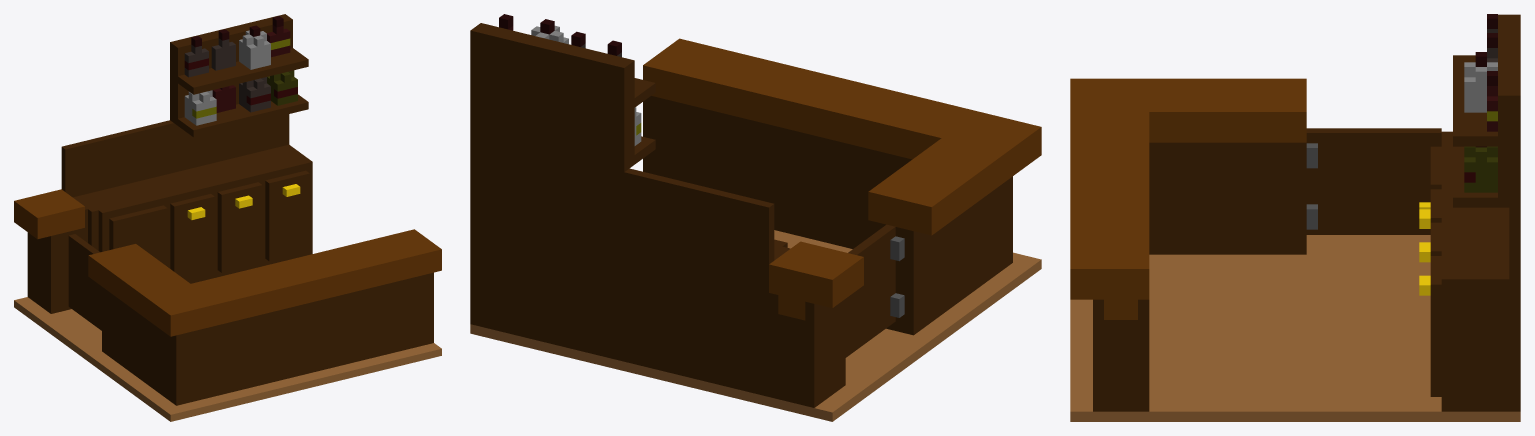
File: saloon-5.obj
The picture shows the model from 3 angles, left to right: view 1: azimuth 30°, elevation 25°; view 2: azimuth 150°, elevation 25°; view 3: azimuth 270°, elevation 25°; orthographic projection. The views are drawn at different scales.
Bounding box in the file's own units: 4 × 3.3 × 4.
1 material, 1 textured.
